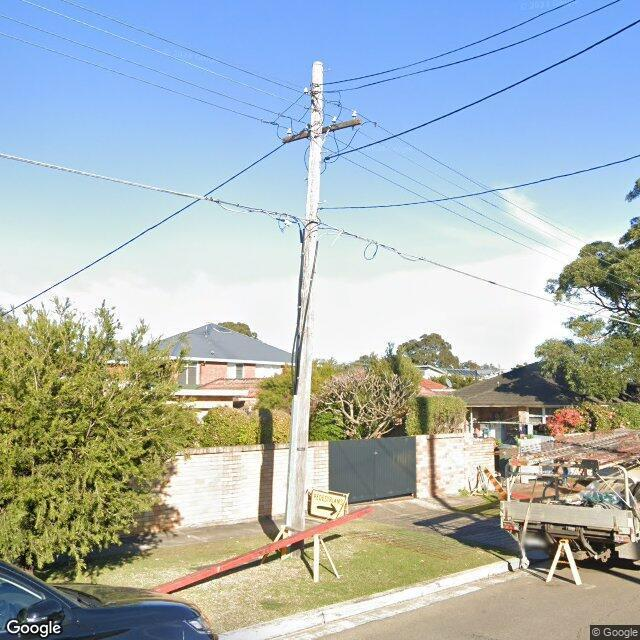crossarm: (282, 118, 362, 144)
timber-pole: (285, 61, 325, 559)
